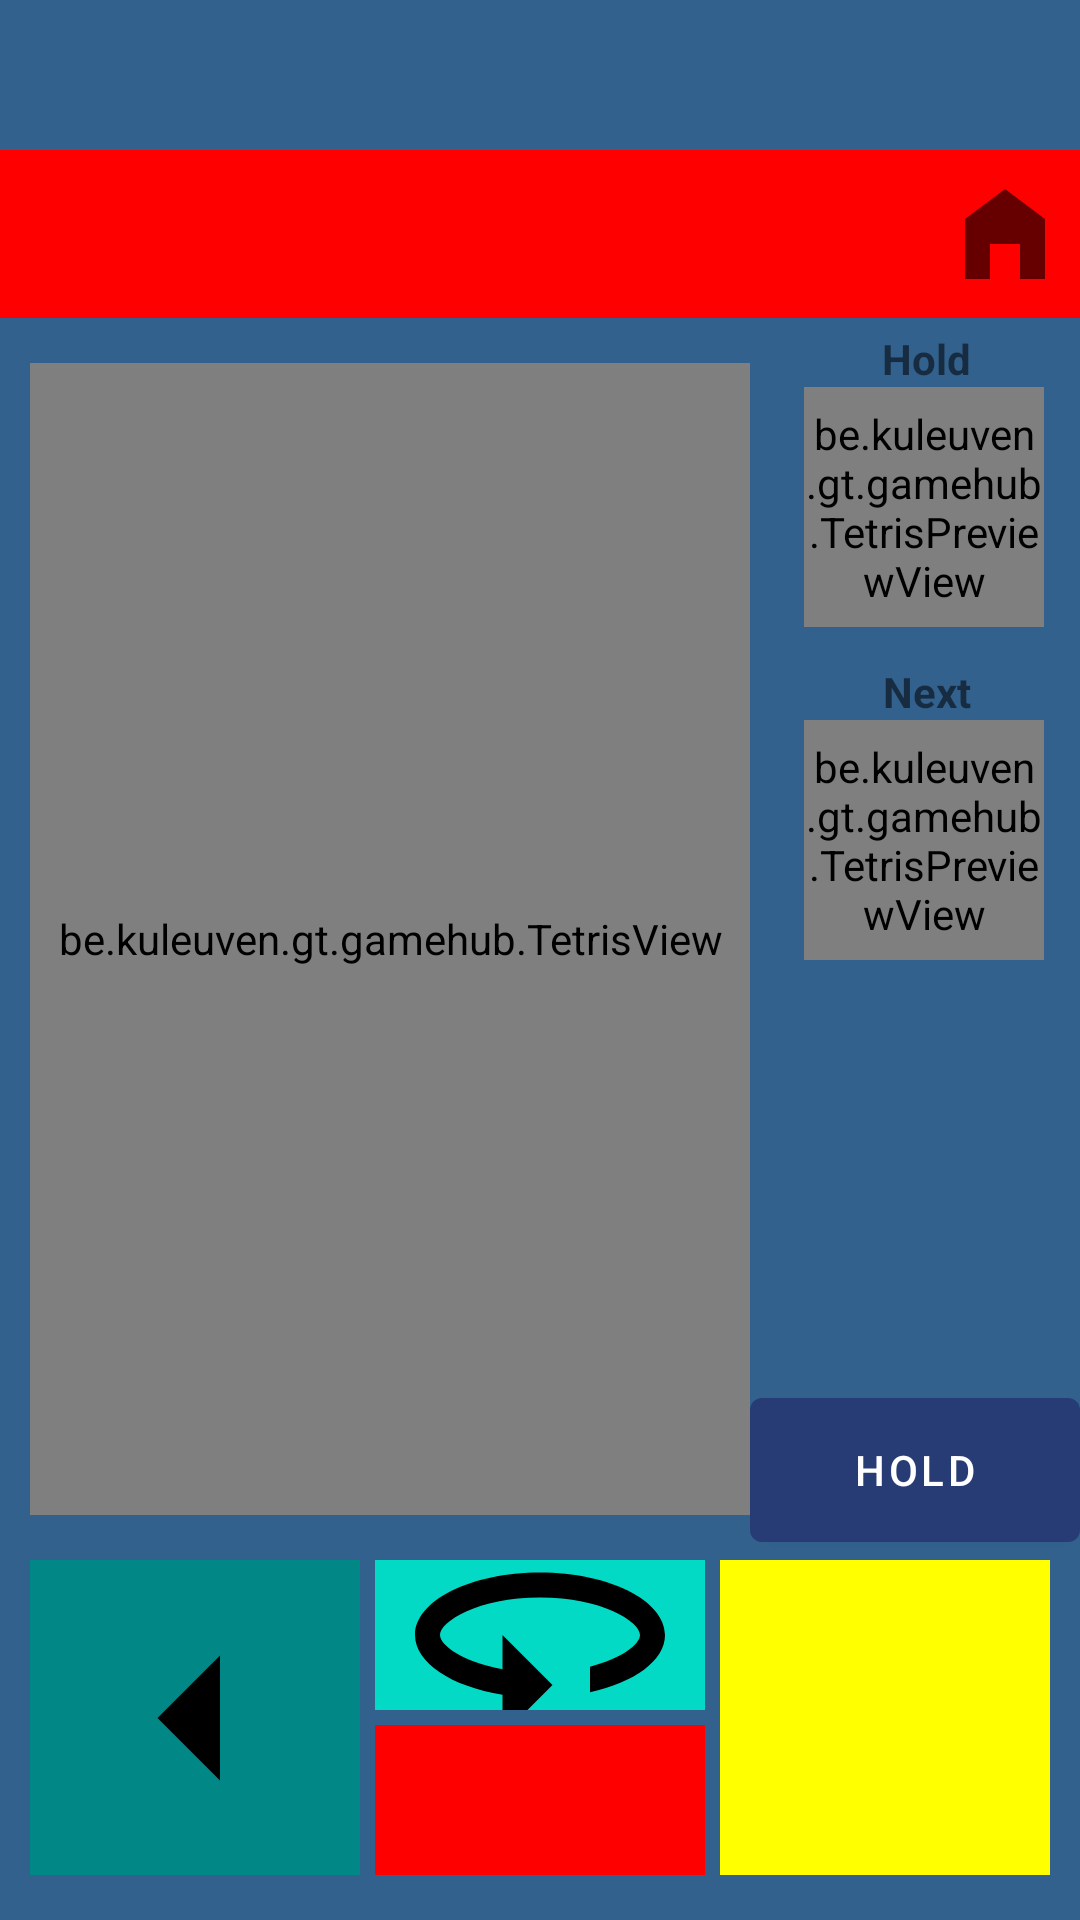

Named icons in this screenshot (1080×1920) and their centers, point (x, y):
Move Left: point (195, 1717)
Rotate: point (540, 1635)
